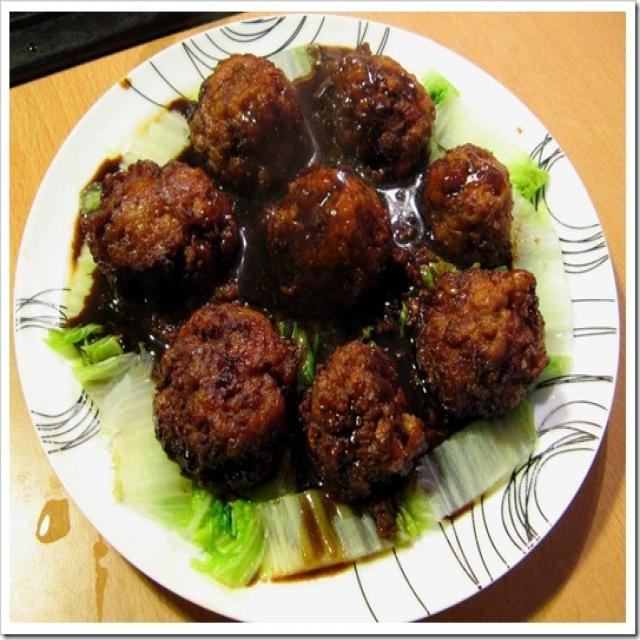Meatball: (148, 298, 298, 484), (294, 336, 426, 508), (422, 259, 553, 432), (310, 40, 443, 190), (262, 164, 391, 316), (100, 164, 237, 300), (186, 41, 305, 190), (414, 140, 523, 259)
